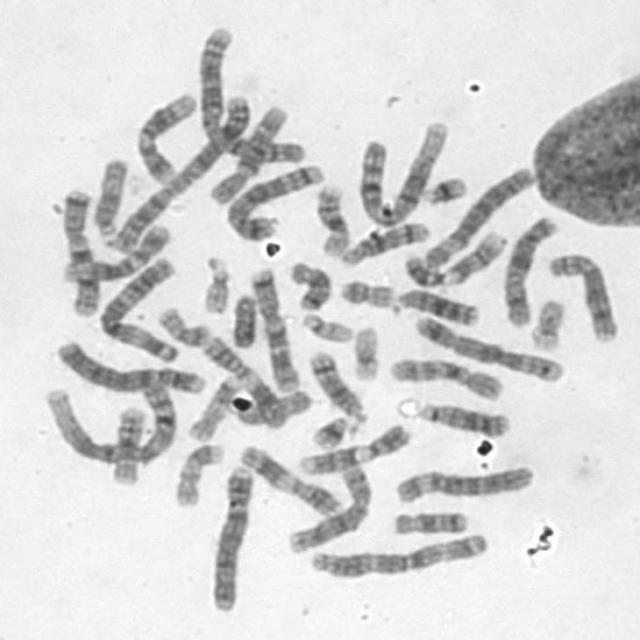A1: (37, 370, 182, 467), (352, 112, 452, 229)
A2: (102, 87, 258, 253), (188, 17, 308, 166)
A3: (304, 524, 492, 580), (92, 249, 181, 363)
B4: (48, 332, 208, 395), (202, 458, 256, 614)
B5: (407, 308, 568, 384), (219, 154, 328, 242)
C10: (202, 95, 294, 207), (382, 348, 507, 402)
C11: (195, 329, 291, 429), (233, 438, 343, 518)
C12: (54, 216, 174, 285), (129, 85, 200, 183)
C6: (415, 157, 539, 271), (388, 458, 538, 505)
C7: (243, 259, 303, 393), (54, 180, 104, 319)
C8: (282, 456, 374, 554), (541, 245, 623, 343)
C9: (397, 222, 508, 288), (292, 416, 414, 476)
D13: (410, 394, 513, 439), (390, 280, 483, 328)
D14: (303, 343, 370, 428), (333, 213, 433, 267)
D15: (226, 382, 316, 428), (86, 150, 132, 238)
E16: (104, 398, 149, 487), (308, 176, 354, 257)
E17: (183, 368, 244, 442), (167, 434, 227, 508)
E18: (282, 253, 335, 312), (386, 502, 472, 537)
F19: (524, 291, 568, 352), (346, 316, 384, 384)
F20: (151, 299, 214, 347), (333, 272, 399, 310)
G21: (414, 166, 472, 208), (305, 407, 357, 451)
G22: (194, 247, 234, 316), (294, 306, 356, 344)
X: (496, 208, 562, 328)
Y: (224, 286, 260, 349)
